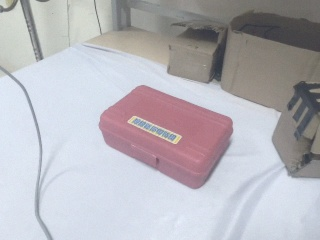box: (100, 85, 233, 188), (220, 11, 320, 113), (272, 81, 320, 178), (168, 21, 226, 82)
